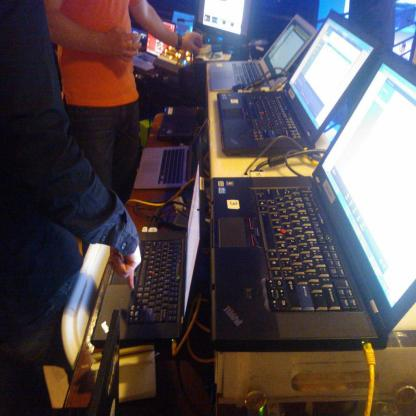board: (212, 48, 416, 350), (216, 8, 384, 156), (92, 147, 206, 349), (206, 15, 319, 92), (134, 118, 209, 189), (132, 19, 177, 74)
